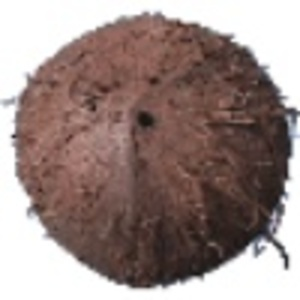coco: (1, 12, 300, 290)
